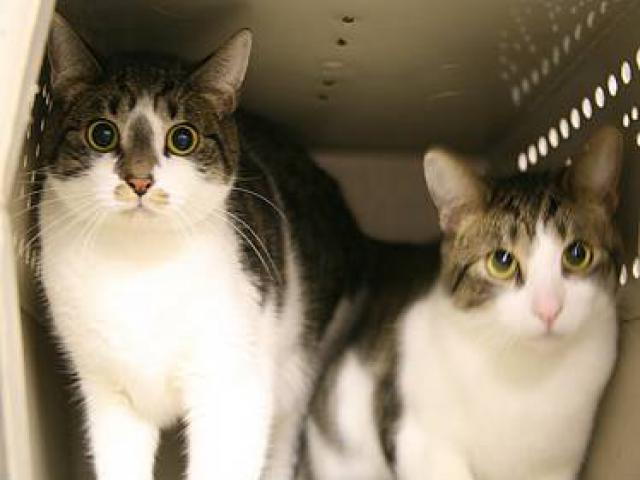cat: (32, 4, 312, 476), (388, 139, 629, 480)
